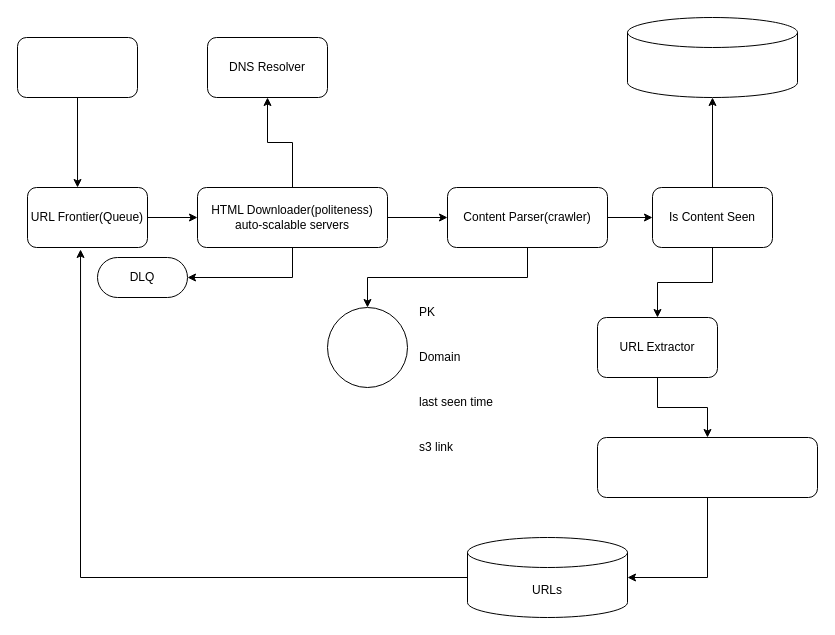
The diagram is 835 pixels wide and 635 high, and some of its shapes have lost their labels. The shapes that lost their labels are listed below. From the top down, each one's box as (x1, y1, x2, y2) in pixels, then its label:
(16, 36, 138, 98): URL Seeds
(626, 16, 798, 98): Contents(S3 Bucket)
(326, 306, 408, 388): url metadata
(596, 436, 818, 498): Is URL Seen(GSI) Global Secondary Index
